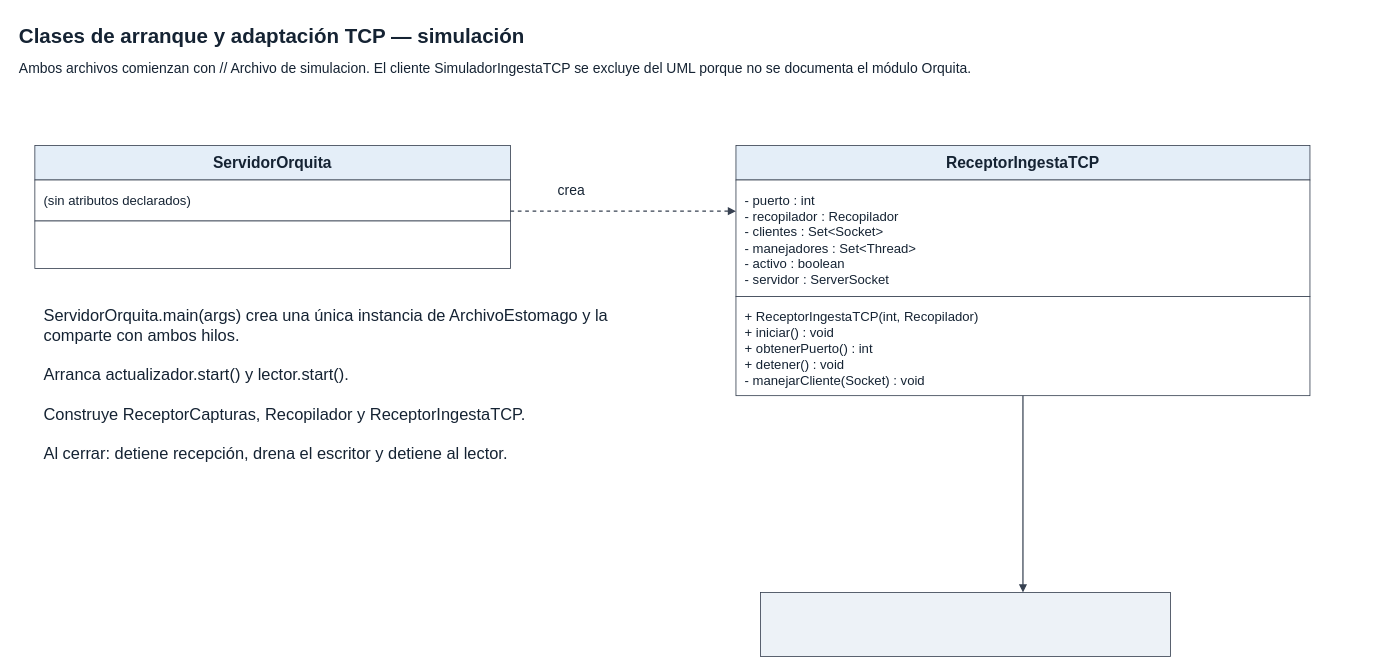
Image size: 1373x671. Some labels were removed from this diagram. Here are the shapes that lost their labels. From the top down, the centre of each, then its label:
At pixel 272 244: "+ ServidorOrquita() + main(String[]) : void {static}".
At pixel 965 624: "Recopilador (ver Clases del servidor)".
